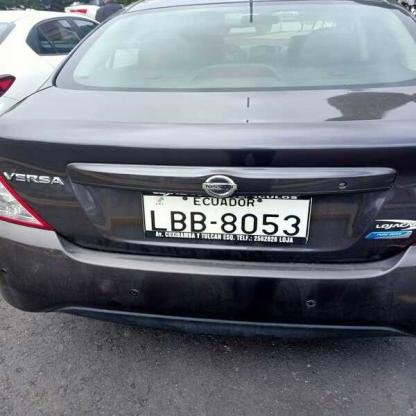Placa: (140, 189, 316, 246)
